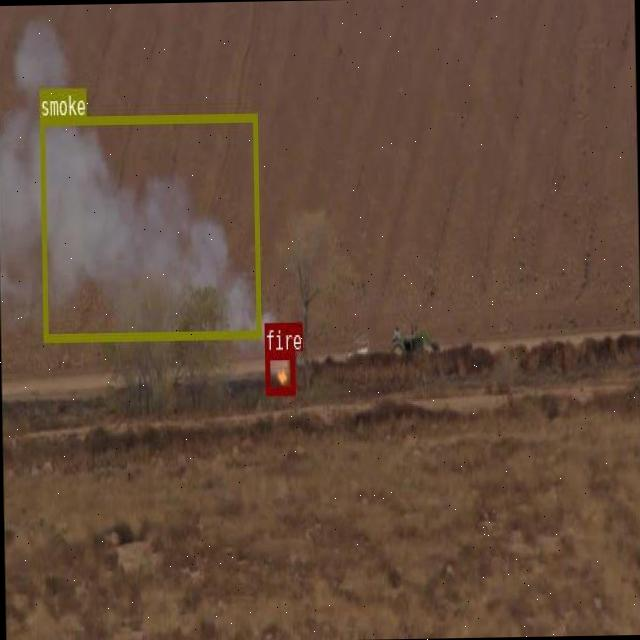fire: (264, 349, 294, 392)
smoke: (38, 112, 260, 339)
